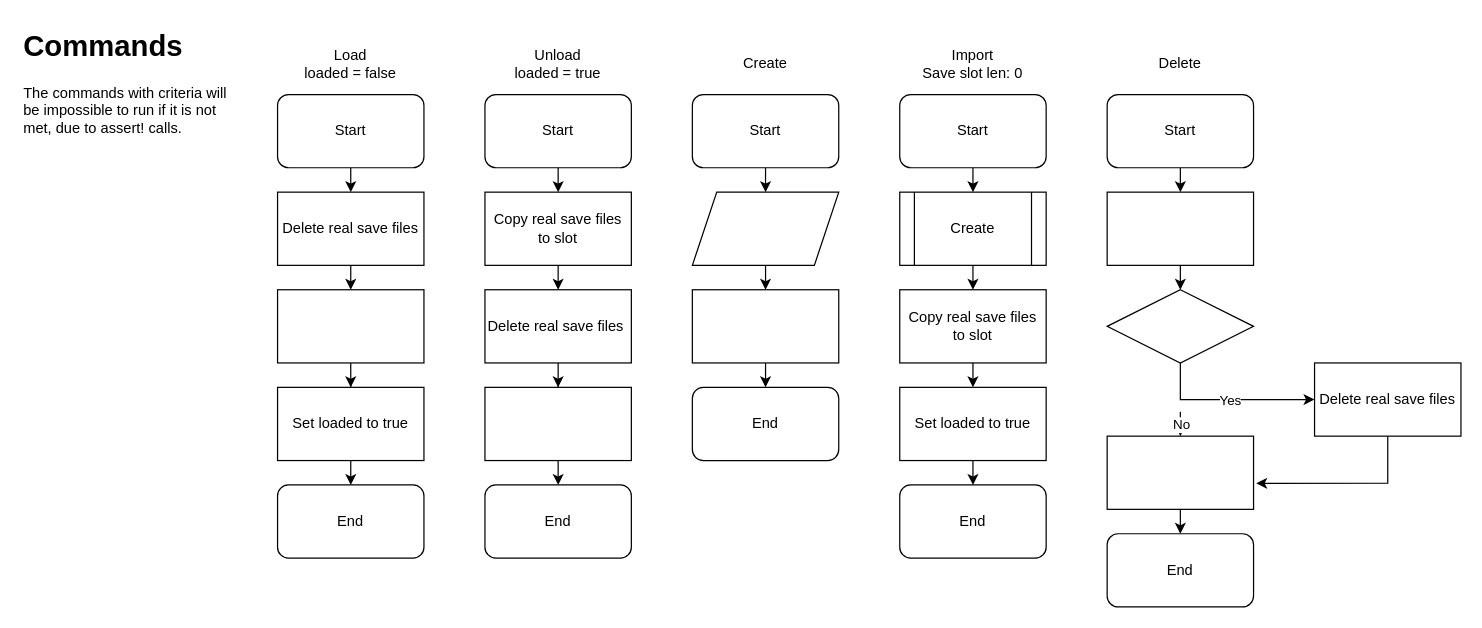
This 1482x628 diagram has some shape labels left out. The shapes that lost their labels are listed below. From the top down, each one's box as (x1, y1, x2, y2) in pixels, then its label:
(691, 191, 839, 265): Gather save metadata
(1106, 191, 1254, 265): Delete save slot folder
(276, 289, 424, 363): Copy save slot files
(691, 289, 839, 363): Create save slot directory
(1106, 289, 1254, 363): Is save loaded?
(484, 386, 631, 461): Set loaded to false
(1106, 435, 1254, 509): Delete save slot directory
